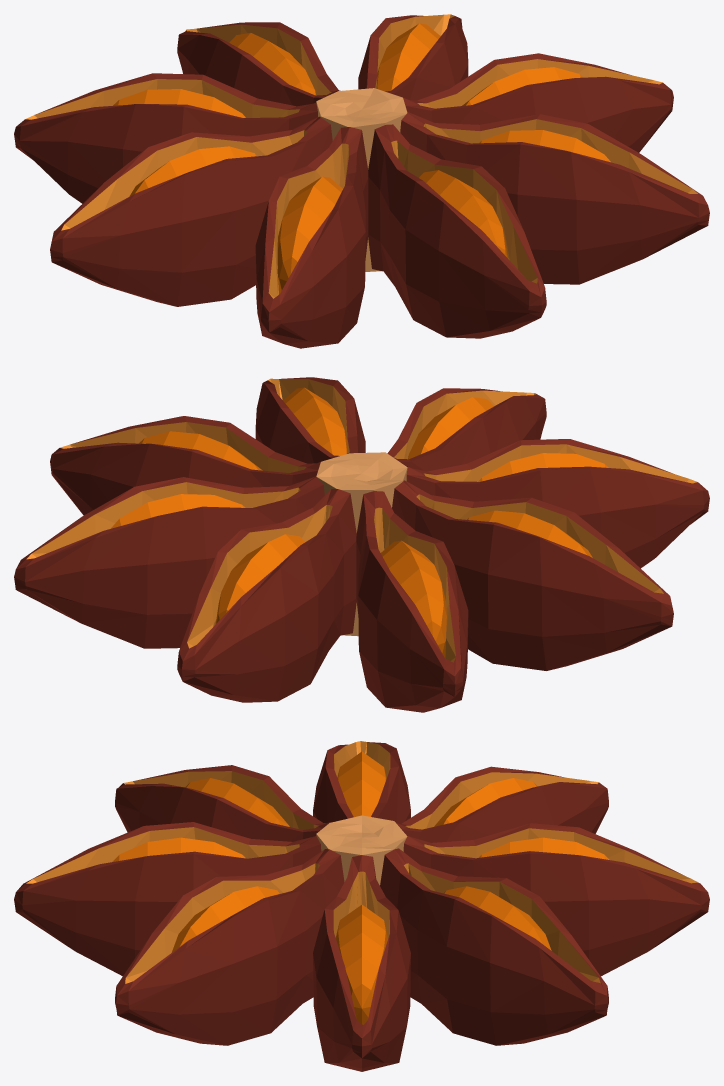
File: db806531-159d-4c47-98c9-61c6c8b7fafb.glb
The picture shows the model from 3 angles, top to bottom: view 1: azimuth 30°, elevation 25°; view 2: azimuth 150°, elevation 25°; view 3: azimuth 270°, elevation 25°; orthographic projection. The views are drawn at different scales.
Visible parts, largest first — view 1: Node; view 2: Node; view 3: Node.
Part boxes in pixels (x1,y1,x2,y2): Node: (14,14,709,348); Node: (14,377,709,712); Node: (14,741,709,1071).
Bounding box in the file's own units: 3.26 × 0.7593 × 3.26.
